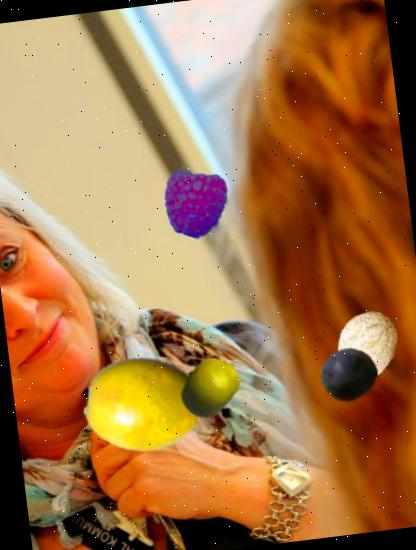Cantaloupe: (330, 306, 406, 382)
Maracuja: (78, 340, 206, 468)
Plum: (316, 343, 380, 407)
Pomelo: (173, 352, 244, 423)
Raspberry: (156, 165, 231, 240)
